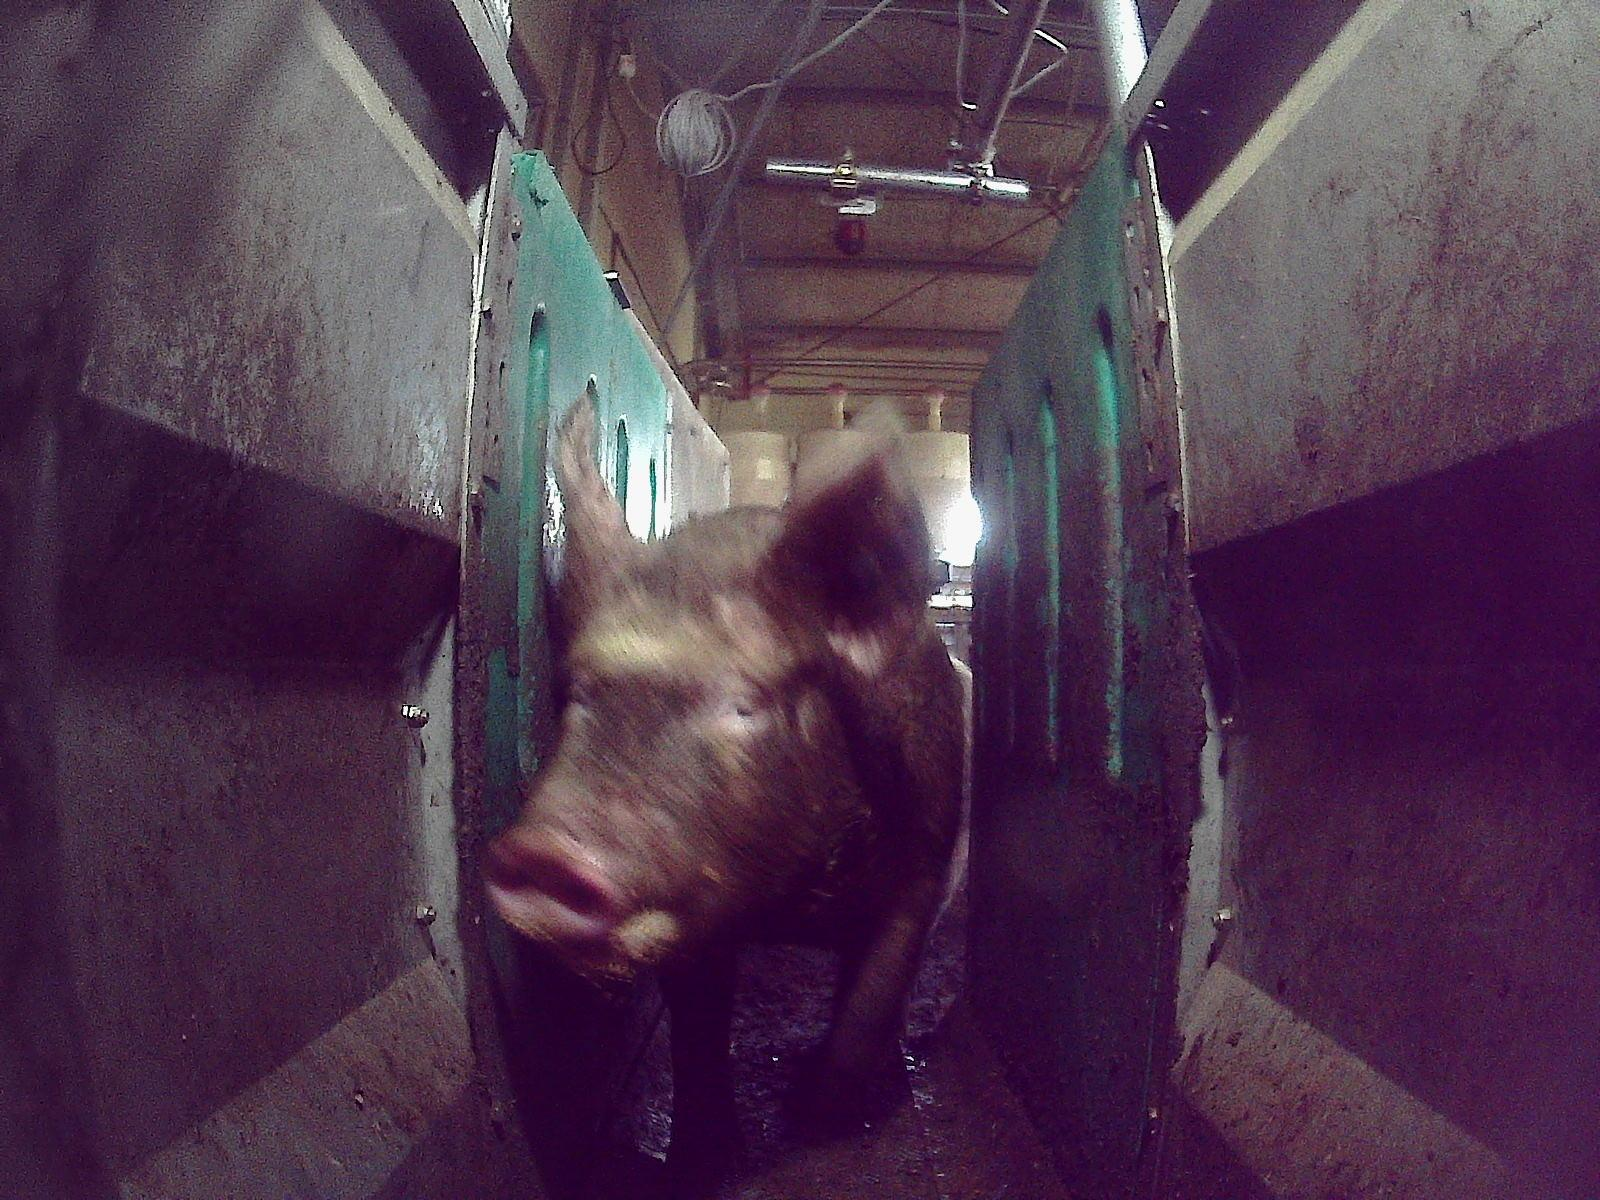Face: (481, 554, 839, 990)
